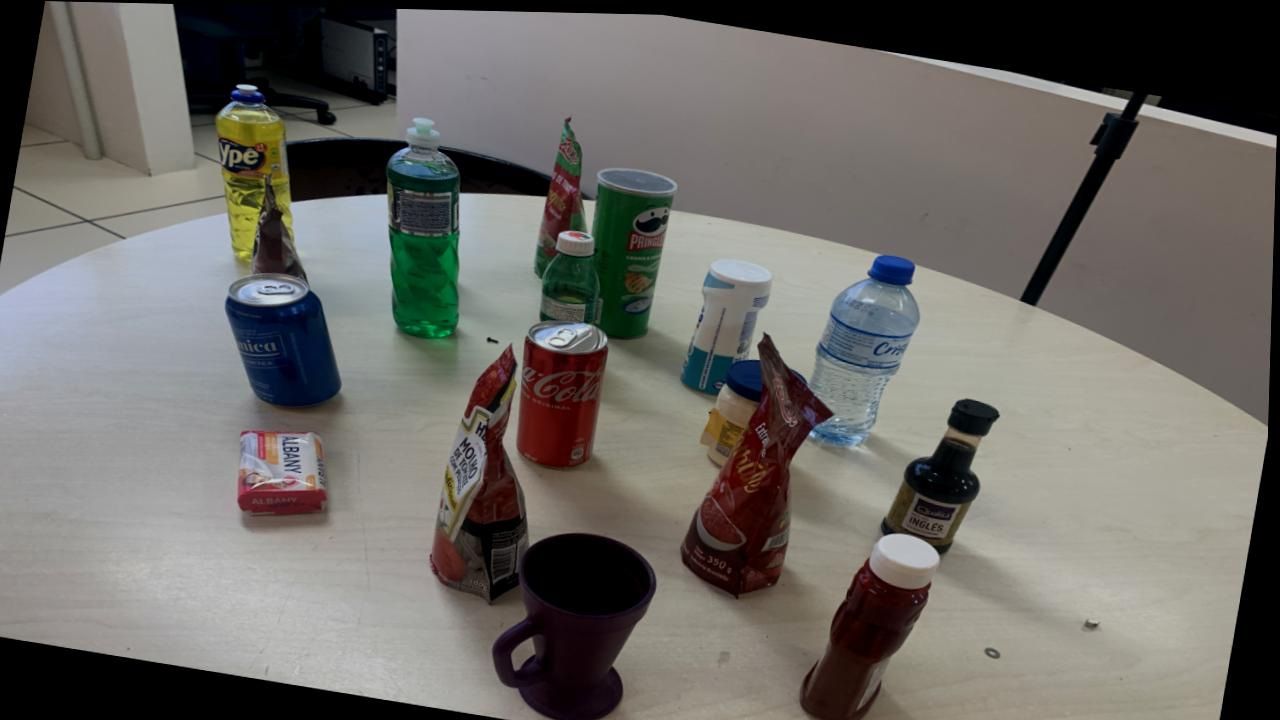Cleaner-Cleanup_Items: (682, 255, 774, 391)
Coffee-Pantry_Items: (252, 175, 308, 279)
Coke-Drinks: (518, 317, 610, 465)
Detergent-Cleanup_Items: (386, 117, 462, 336), (215, 82, 295, 259)
English_Sauce-Pantry_Items: (885, 394, 1001, 548)
Guarana-Drinks: (540, 227, 601, 321)
Ketchup-Pantry_Items: (804, 528, 943, 720)
Mayonnaise-Pantry_Items: (702, 355, 764, 461)
Pringles-Snacks: (592, 164, 678, 336)
Soap-Cleanup_Items: (240, 428, 330, 514)
Tomato_Sauce-Pantry_Items: (683, 330, 836, 592), (432, 348, 532, 600), (535, 116, 588, 273)
Tonic-Drinks: (226, 270, 344, 405)
Water_Bottle-Drinks: (812, 250, 922, 442)
